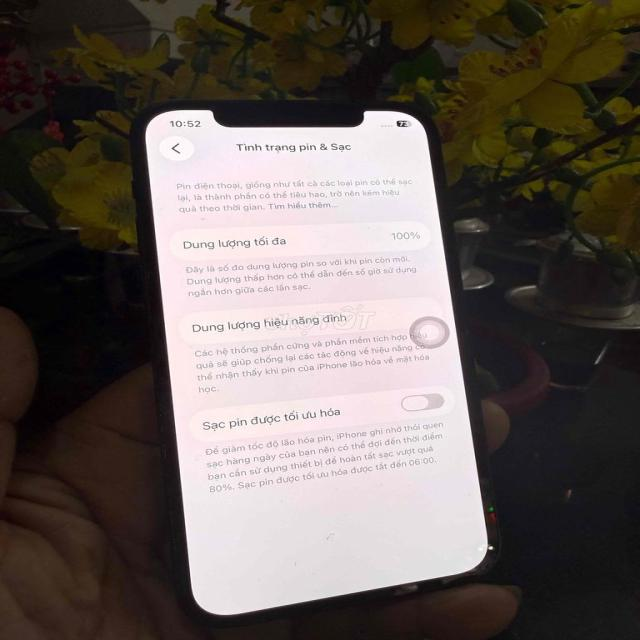gen_12_13: (130, 92, 508, 628)
